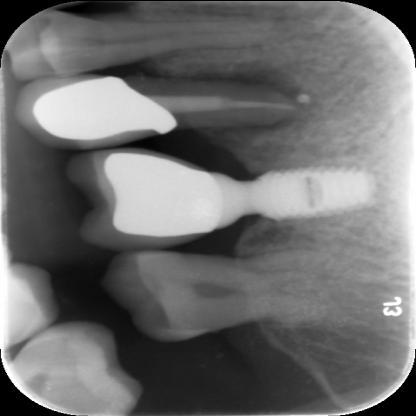Bicon: (254, 165, 379, 223)
